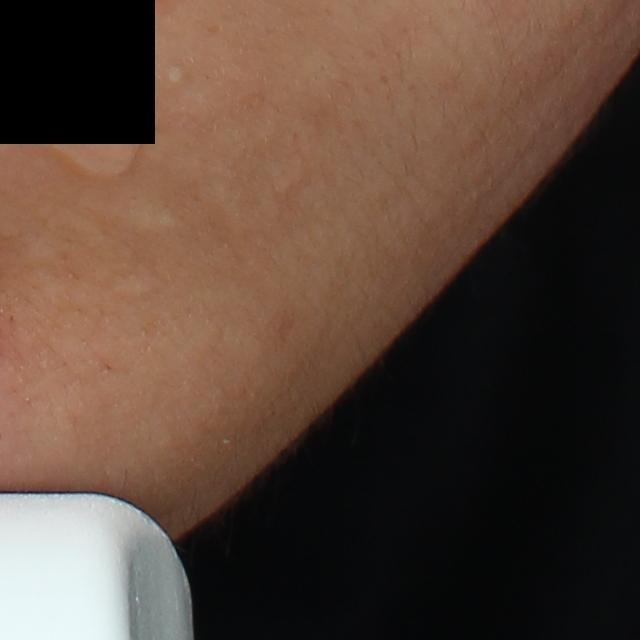comedo: (166, 62, 184, 84)
hypertrophic_scar: (112, 272, 162, 301)
